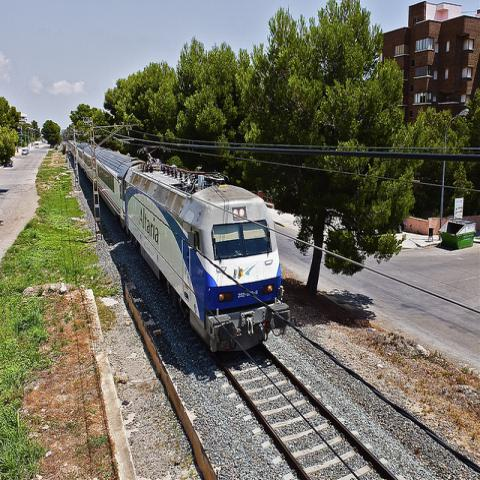car: (21, 148, 26, 156), (34, 143, 40, 148)
